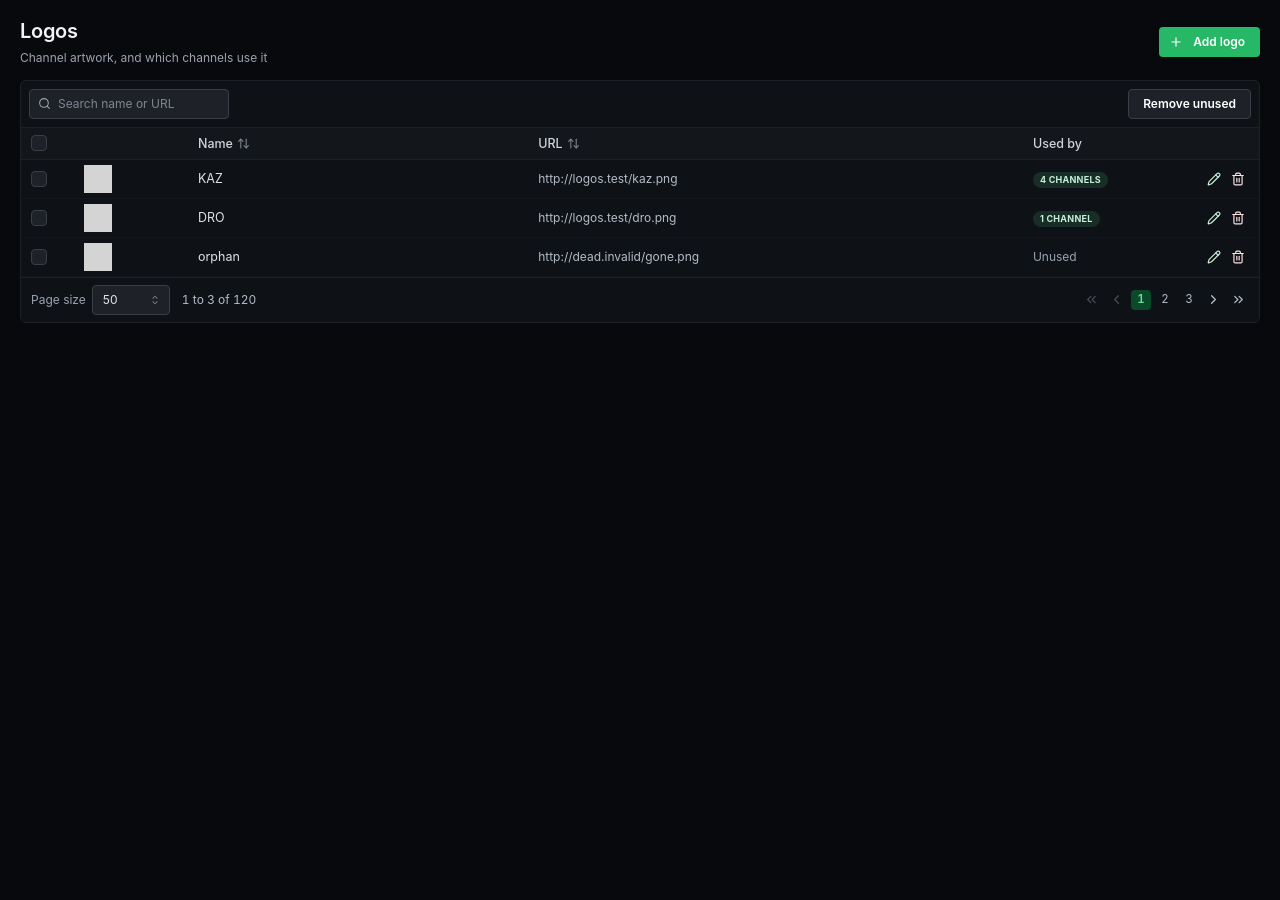
Scenario: deleting logos › says plainly when a logo is safe to remove
The image size is (1280, 900).
Expected: the text "orphan" is shown, [188, 238, 528, 277]
Click the button named "Delete orphan" at [1238, 257], box [1227, 246, 1249, 268]
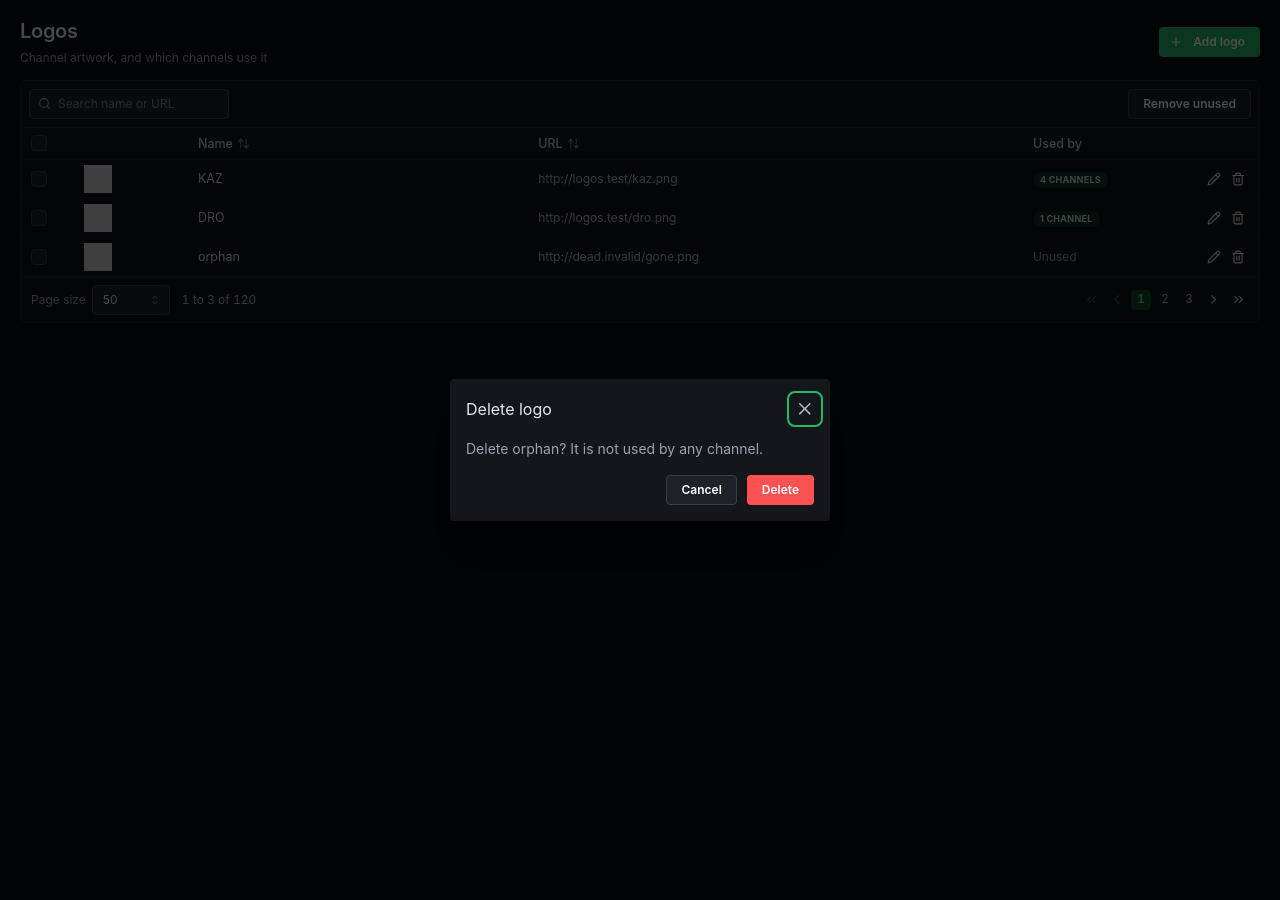
Expected: the text "Delete orphan? It is not used by any channel." is shown, [466, 439, 814, 459]
